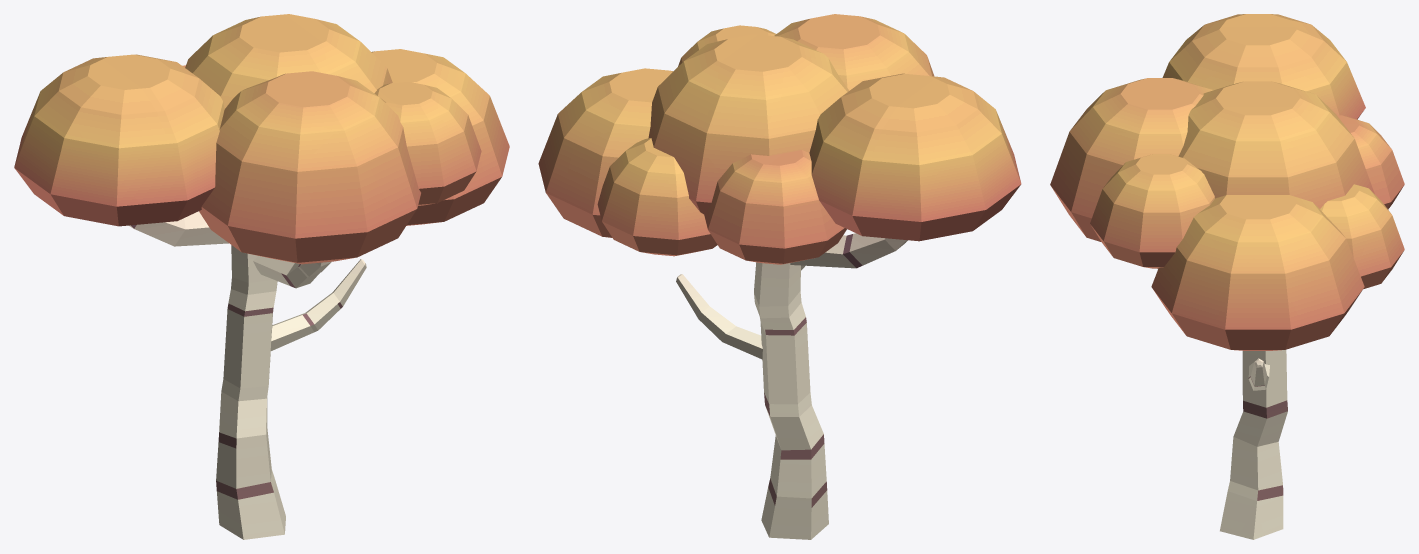
Rendered from pretty_big_tree_2.gltf.
3 renders of one model, left to right at view 1: azimuth 30°, elevation 25°; view 2: azimuth 150°, elevation 25°; view 3: azimuth 270°, elevation 25°, orthographic. The views are drawn at different scales.
Parts seen in each view (by area): view 1: Object_9; view 2: Object_9; view 3: Object_9.
Boxes of the visible parts, x1,y1,x2,y2 form: Object_9: (14, 14, 509, 539); Object_9: (538, 14, 1021, 539); Object_9: (1050, 14, 1404, 539).
Bounding box in the file's own units: 15.11 × 15.11 × 10.99.
Materials: 1 (1 with a texture image).
